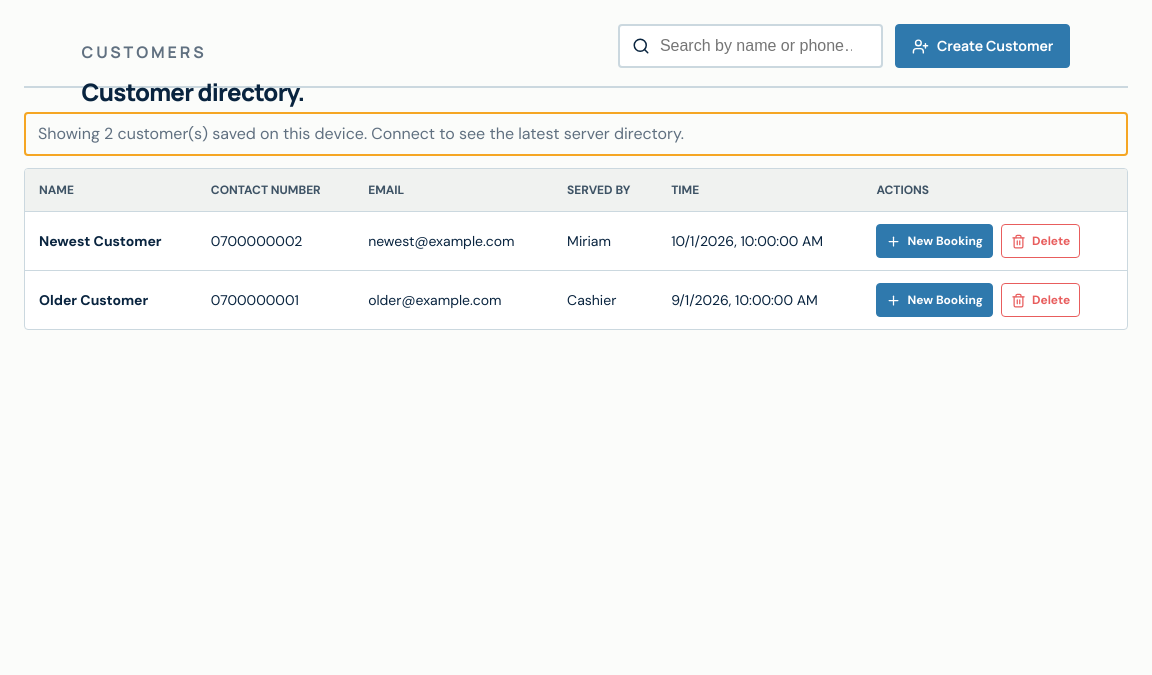
customer creation form › shows newest customers first in a table and offers deletion
expect the text "Newest Customer" is shown: met, box [25,212,197,270]
expect the text "Older Customer" is shown: met, box [25,270,197,329]
Click the button with aria-label "Delete Older Customer" at (1041, 300), box [1001,283,1080,317]
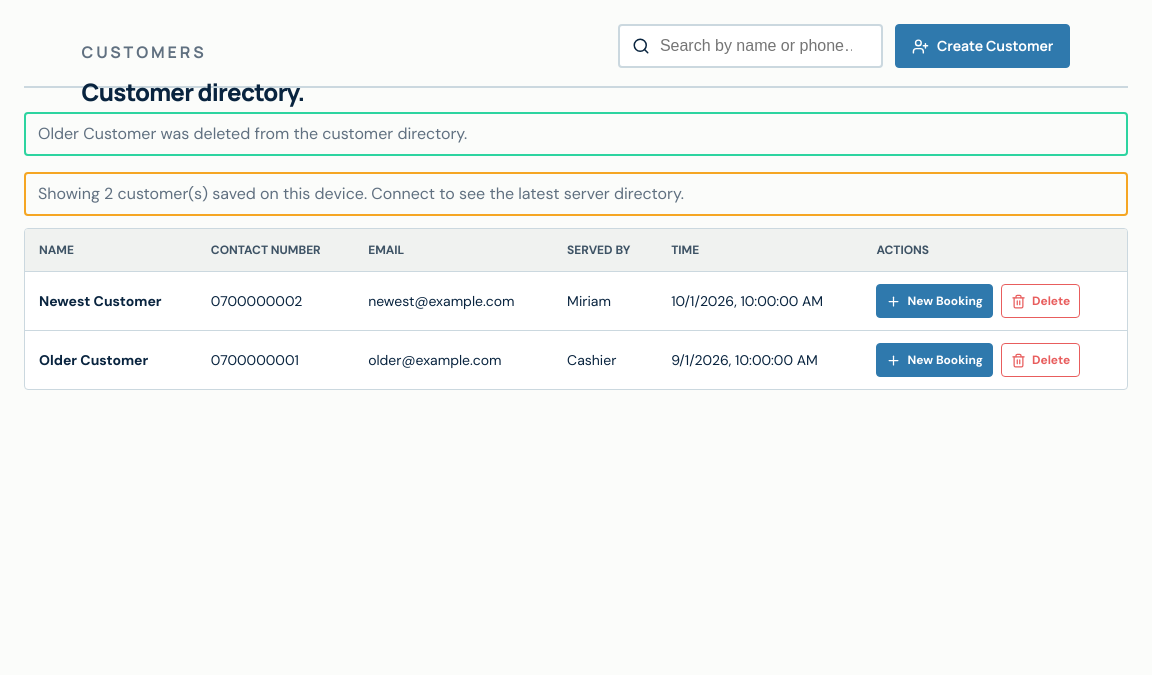
Click the button "New Booking" in the row of "Newest Customer" at (935, 301), box [876,284,993,318]
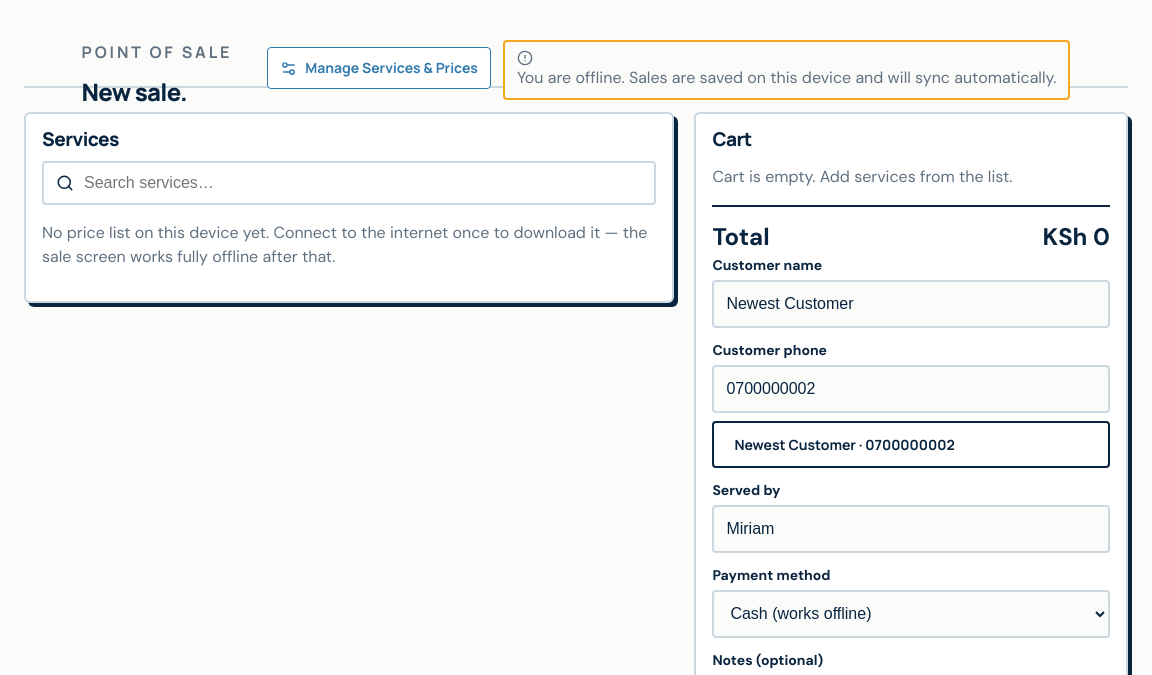
expect the field labelled "Customer name" holds "Newest Customer": met, box [712,280,1110,328]
expect the field labelled "Customer phone" holds "0700000002": met, box [712,365,1110,413]
expect the field labelled "Served by" holds "Miriam": met, box [712,505,1110,553]
